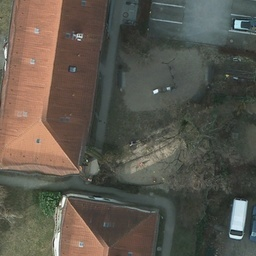car: (228, 197, 249, 239), (231, 16, 256, 32)
